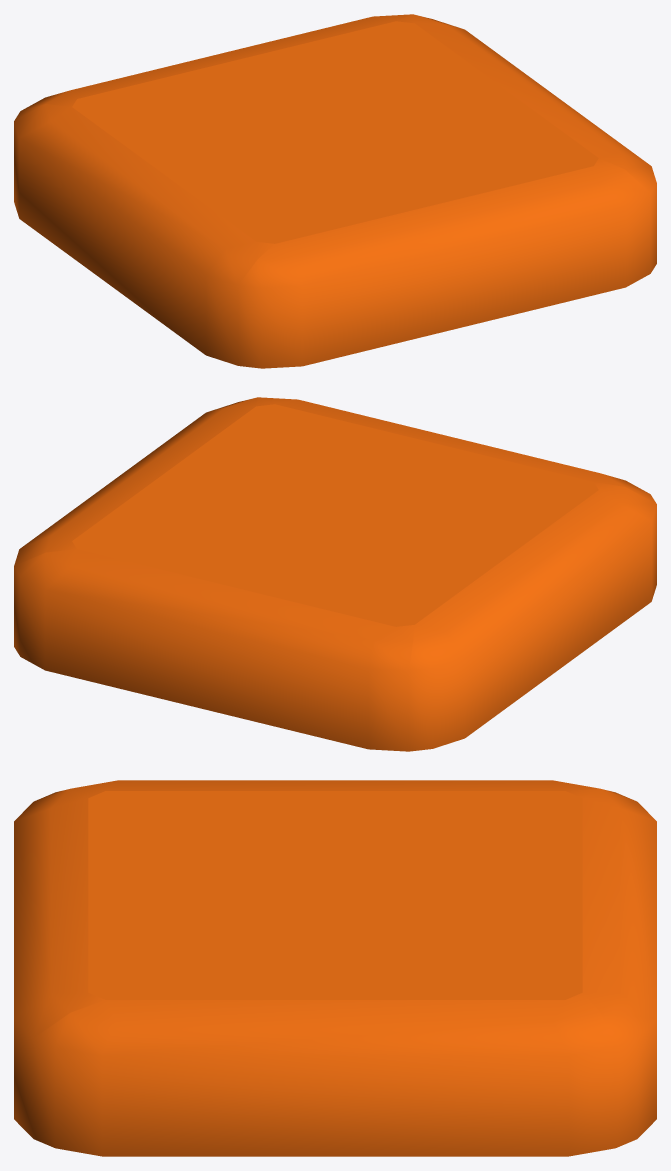
The model's file is boton_pulsador.glb.
3 views of the same model, one above another, from view 1: azimuth 30°, elevation 25°; view 2: azimuth 150°, elevation 25°; view 3: azimuth 270°, elevation 25° (orthographic). The views are drawn at different scales.
Parts seen in each view (by area): view 1: Cubo.020; view 2: Cubo.020; view 3: Cubo.020.
Boxes of the visible parts, <box> form: Cubo.020: <box>14,14,656,368</box>; Cubo.020: <box>14,397,656,751</box>; Cubo.020: <box>14,780,656,1156</box>.
Bounding box in the file's own units: 2.45 × 0.5494 × 2.45.
